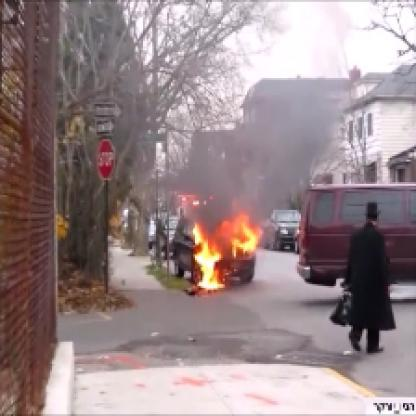Fire: (182, 188, 254, 294)
